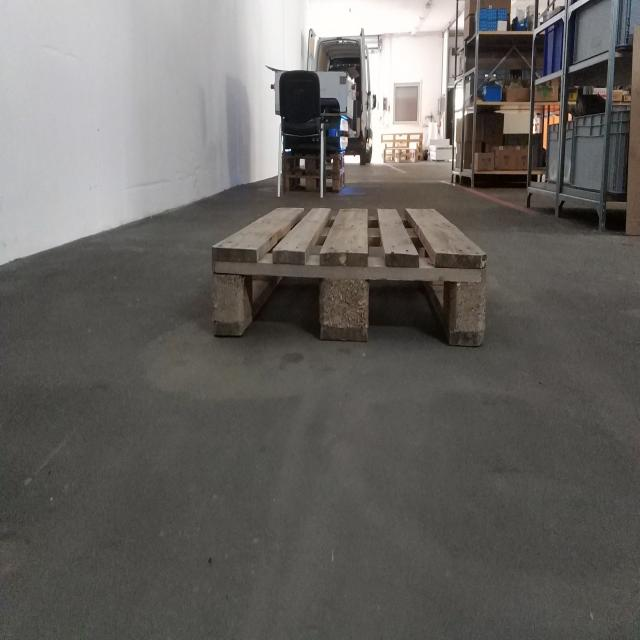block: (316, 252, 370, 343), (448, 250, 489, 349), (210, 243, 245, 344)
front: (207, 243, 490, 352)
